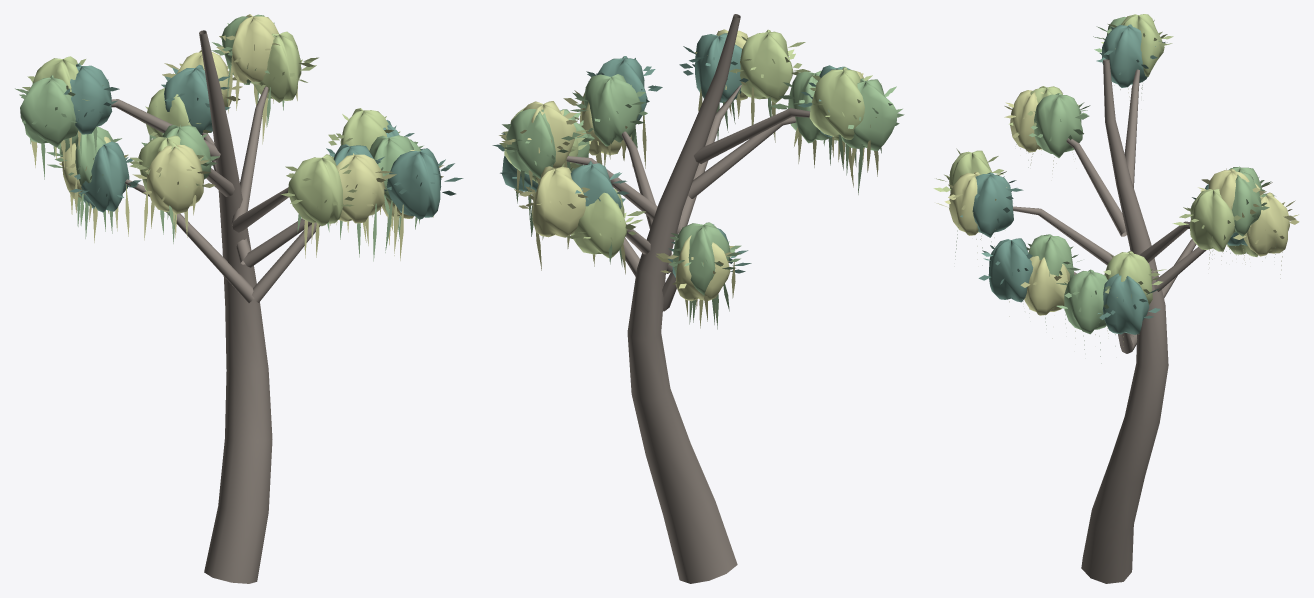
Rendered from willow_river.glb.
3 views of the same model, side by side, from view 1: azimuth 30°, elevation 25°; view 2: azimuth 150°, elevation 25°; view 3: azimuth 270°, elevation 25° (orthographic). The views are drawn at different scales.
Visible parts, largest first — view 1: willow_river; view 2: willow_river; view 3: willow_river.
Boxes of the visible parts, left/top/right/bottom form: willow_river: left=15, top=14, right=463, bottom=583; willow_river: left=492, top=14, right=904, bottom=583; willow_river: left=933, top=14, right=1299, bottom=583.
Size of the model in its own units: 5.68 by 7.71 by 5.1.
